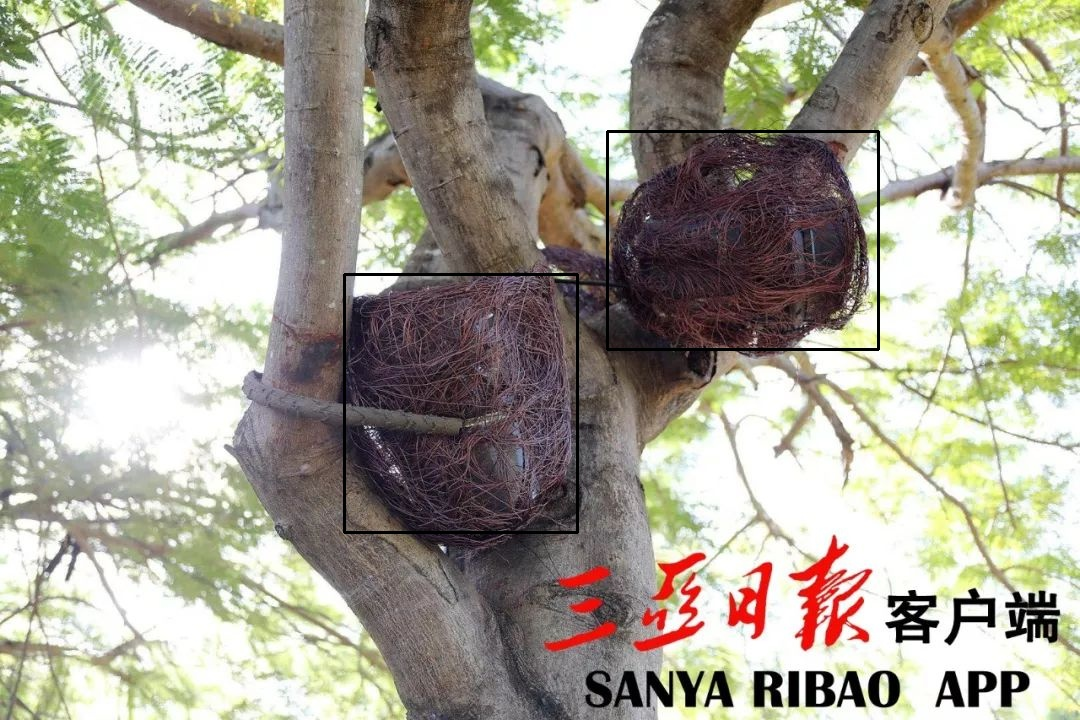bird-nest: (344, 274, 577, 532), (607, 131, 878, 349)
